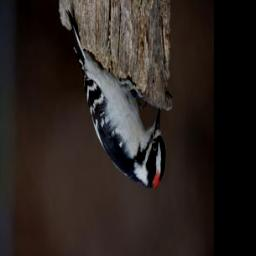Woodpecker: (65, 7, 167, 192)
